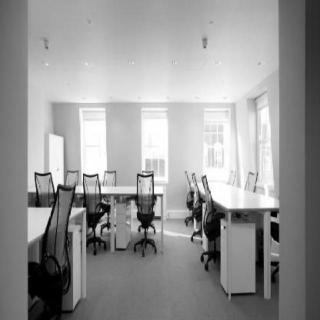other: (201, 108, 233, 182), (140, 118, 169, 186)
